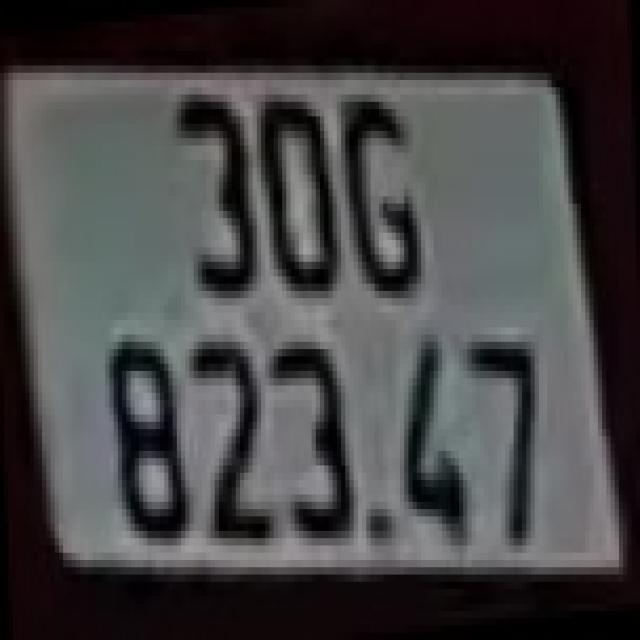0: (261, 87, 341, 298)
1: (476, 334, 548, 552)
2: (190, 334, 274, 538)
3: (269, 334, 358, 538), (172, 87, 256, 298)
4: (396, 327, 472, 553)
8: (110, 327, 190, 538)
G: (346, 87, 426, 298)
